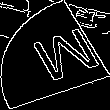M_SE: (13, 22, 97, 88)
